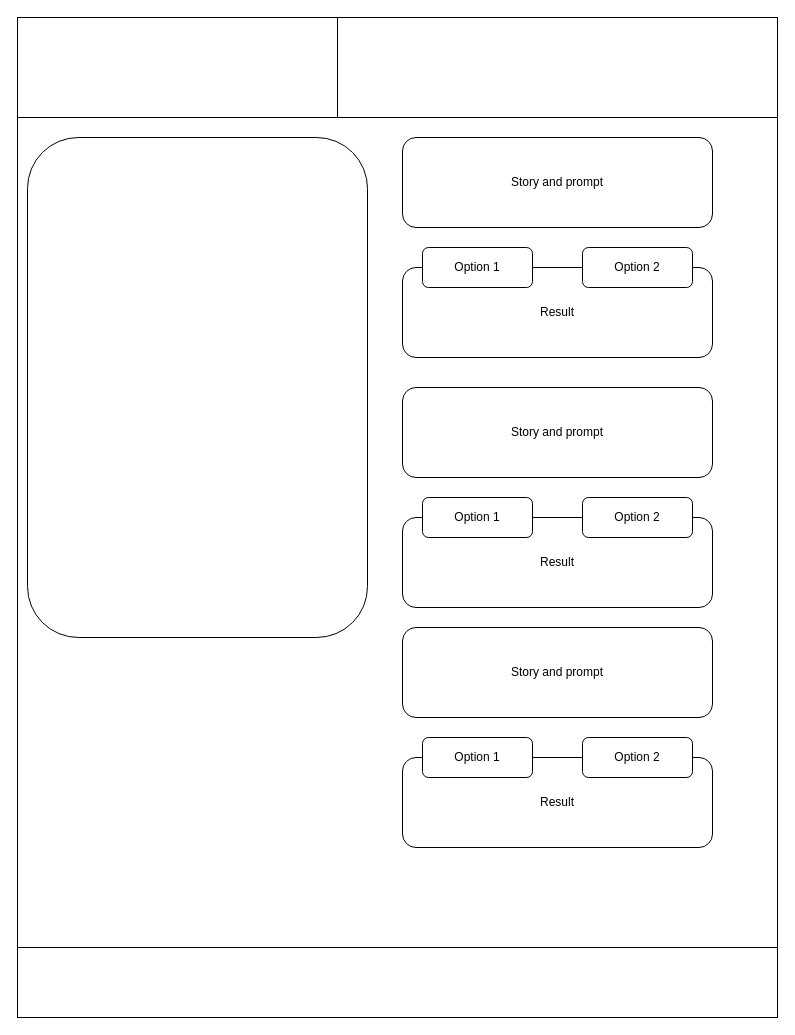
This 795x1035 diagram has some shape labels left out. The shapes that lost their labels are listed below. From the top down, each one's centre as x and y in pixels, then its label:
At point 177,67: "Title".
At point 557,67: "Menu".
At point 197,387: "Character Sheet".
